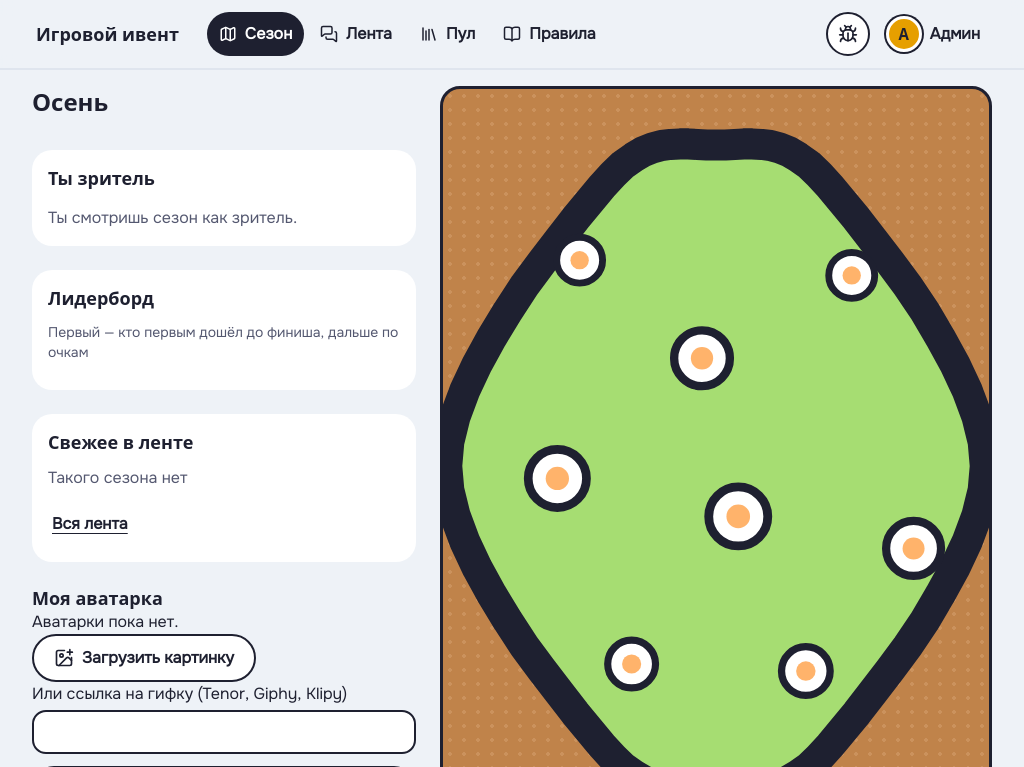
Test case: The admin pages › open from the admin’s menu and lead back to the game
Click the button with test id "user-menu" at (937, 34), box [882,12,992,56]
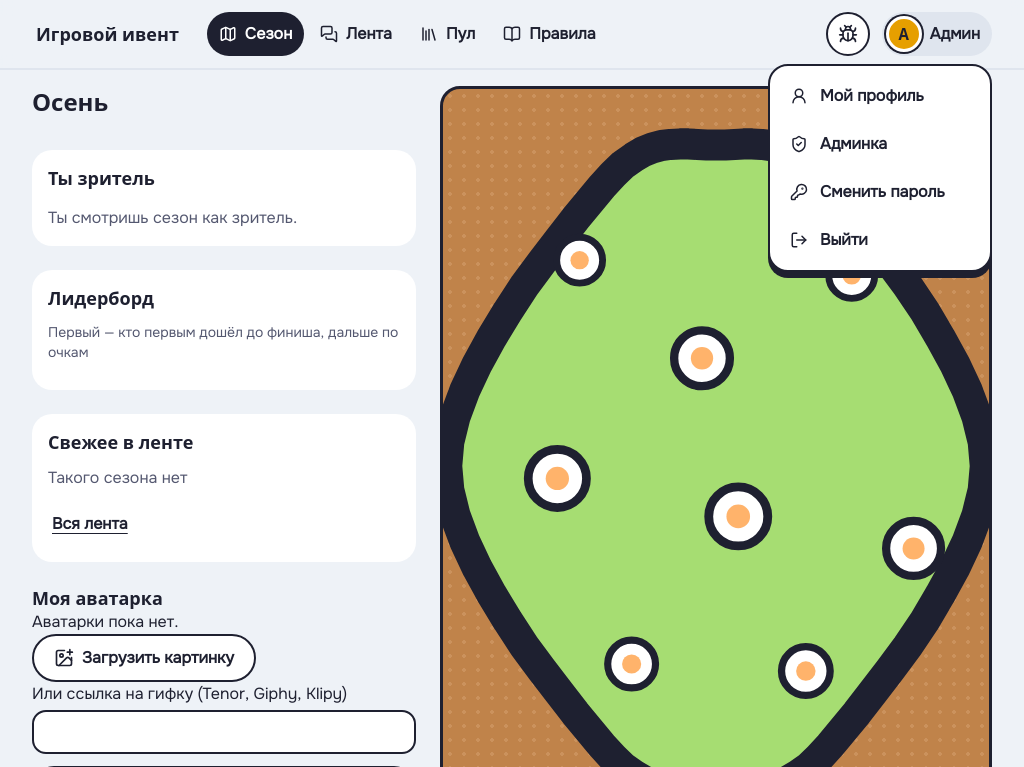
Click the menu item with test id "to-admin" at (839, 144), box [790,133,887,154]
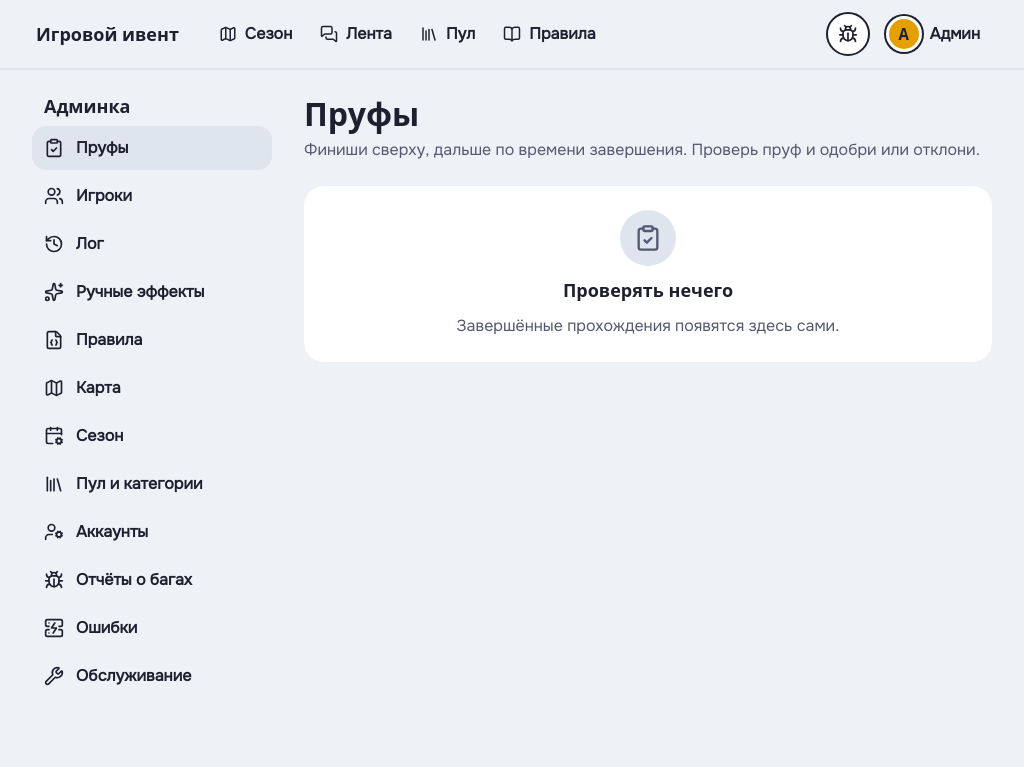
Check: the element with test id "admin" is shown
// Back to the game by the header's sections, as from any page of the site (D-202)
Click the link "Сезон" next to "Лента" at (269, 34), box [245,23,292,44]
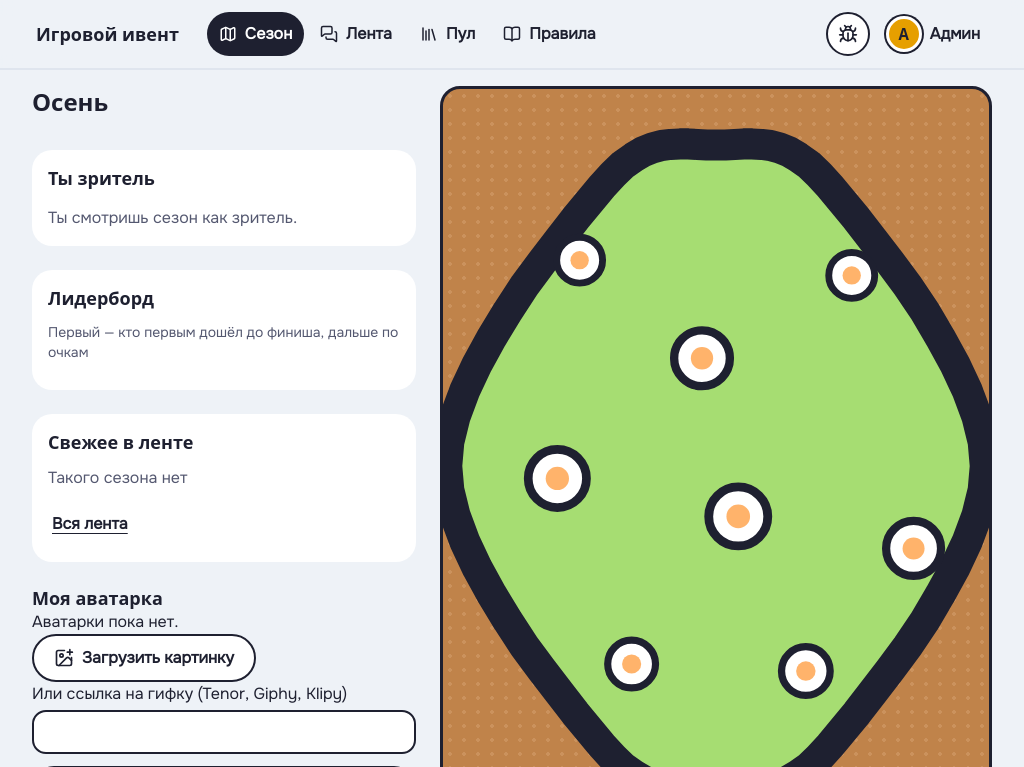
Check: the element with test id "admin" is gone
